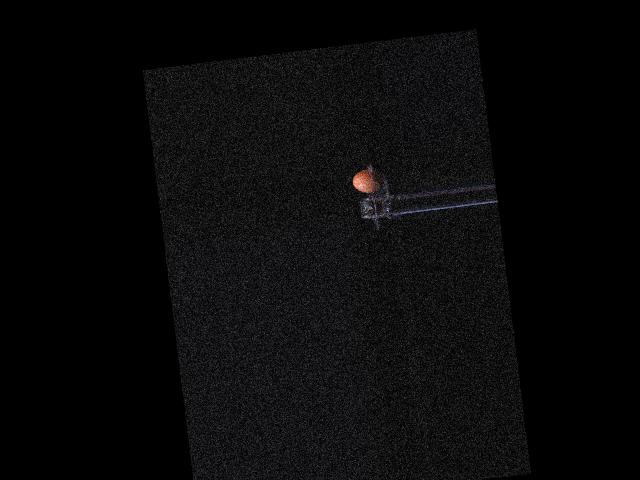egg: (351, 166, 385, 194)
